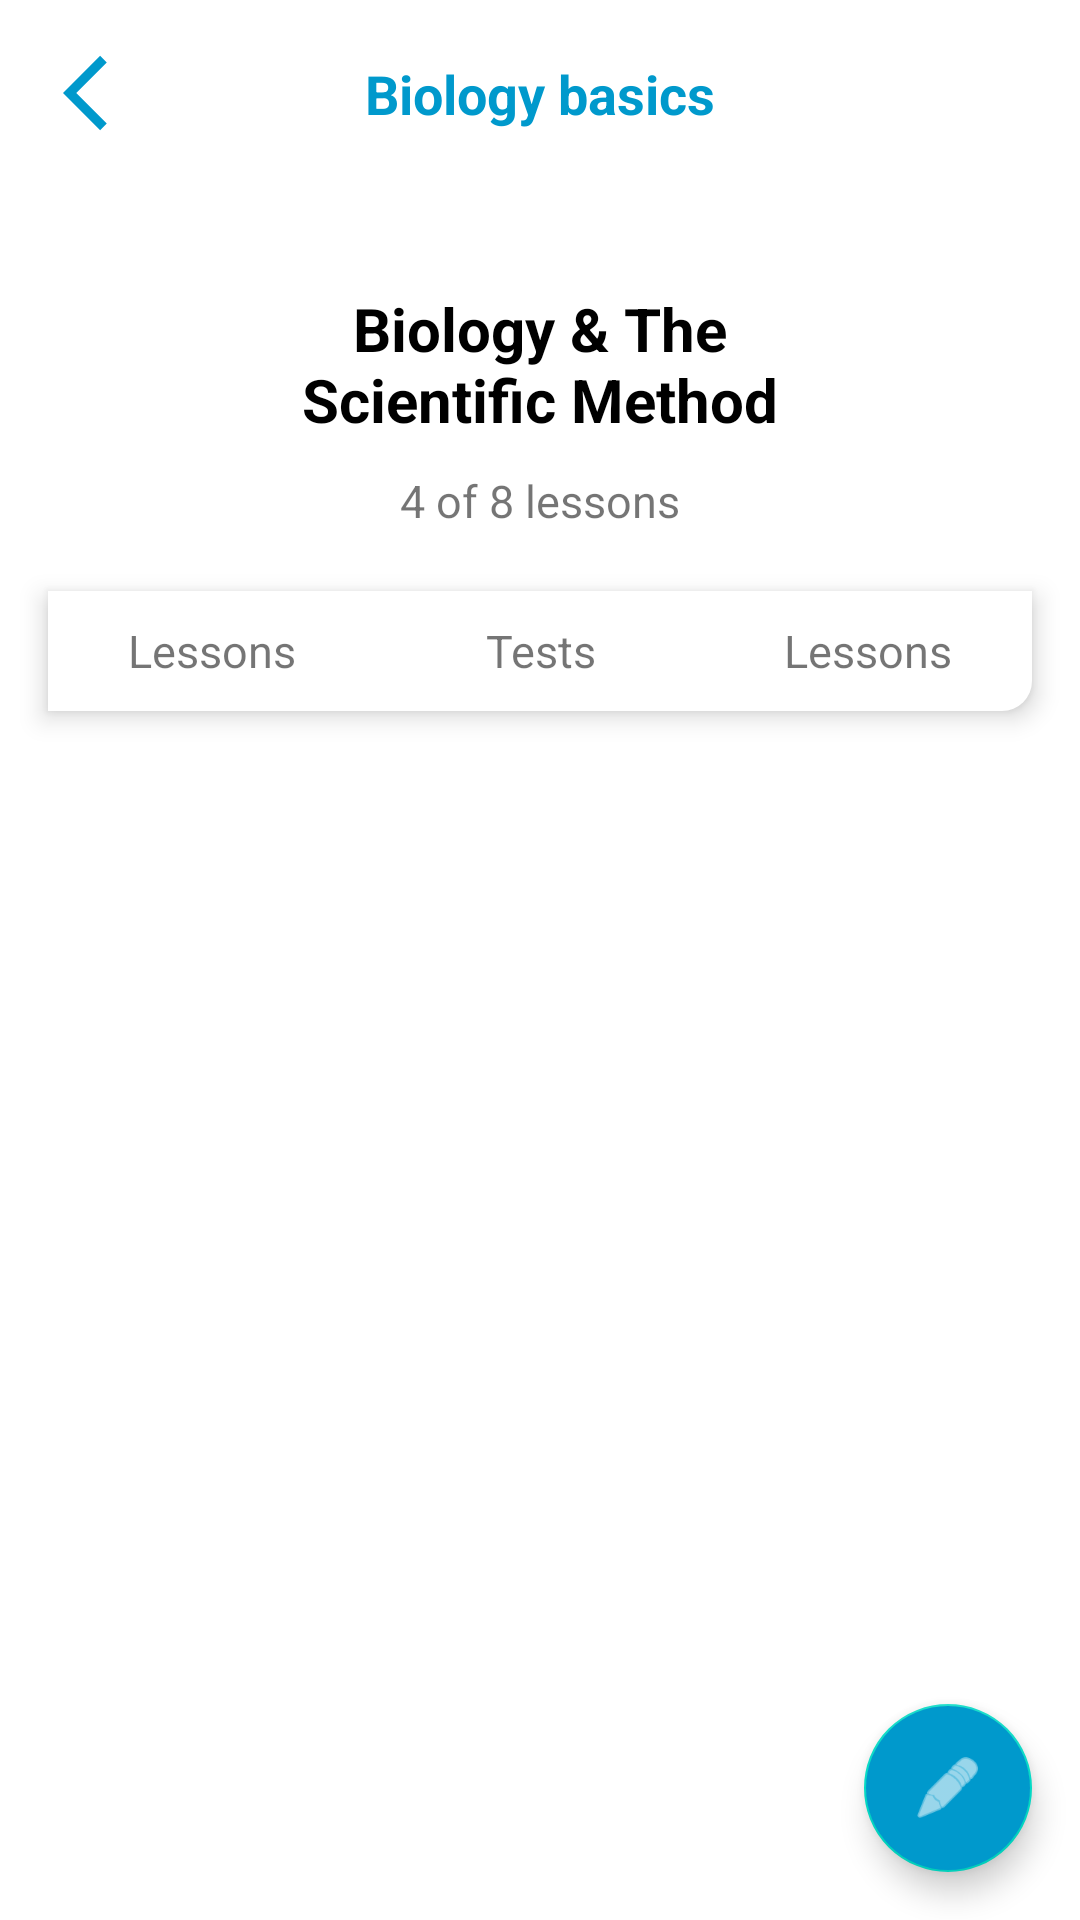

Icon bounding boxes for this 1080*1920 phone screenshot, format [x1, y1, x2, y2]:
back arrow: [63, 56, 107, 130]
edit: [864, 1704, 1032, 1872]
